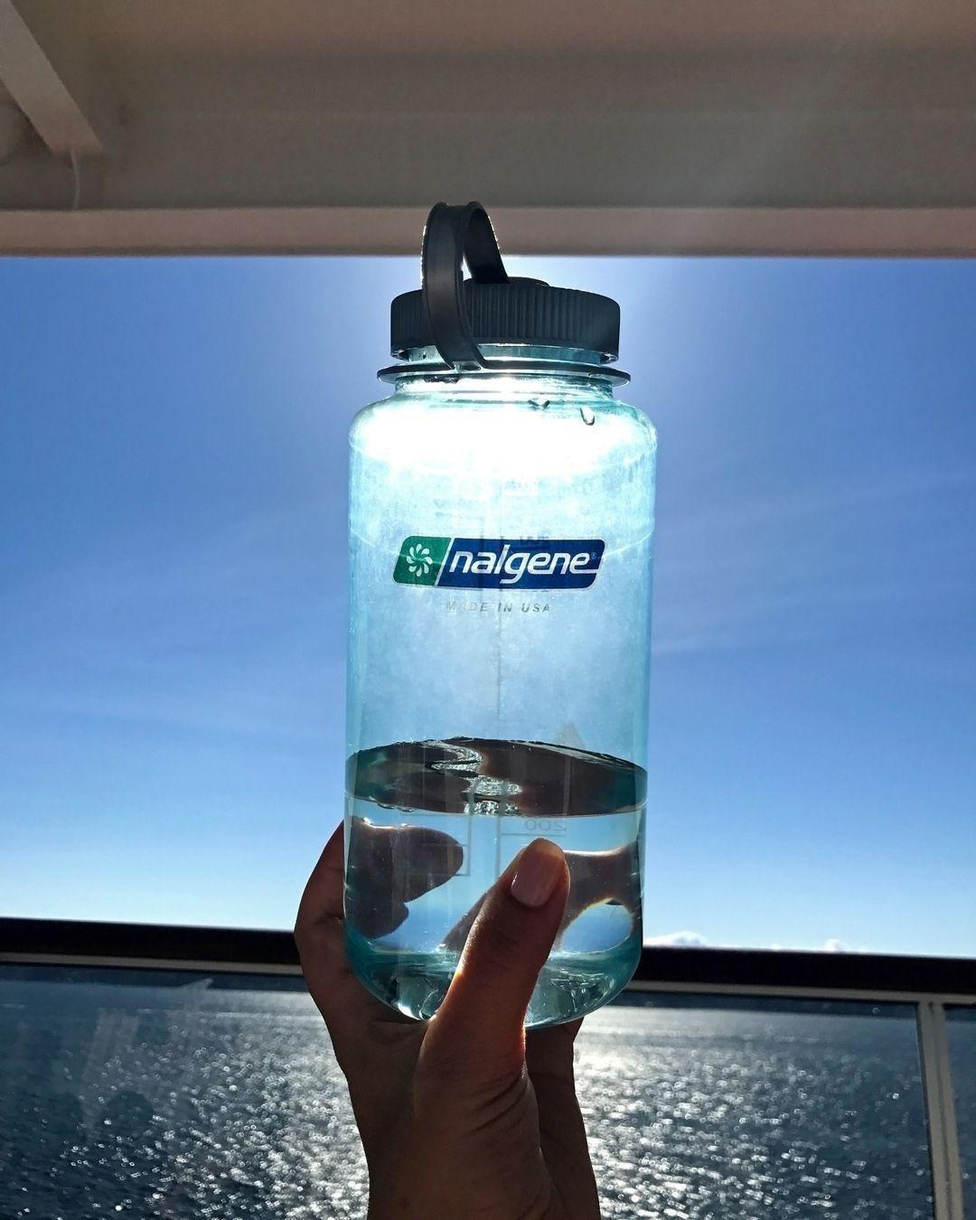gym bottle: (334, 196, 662, 1039)
